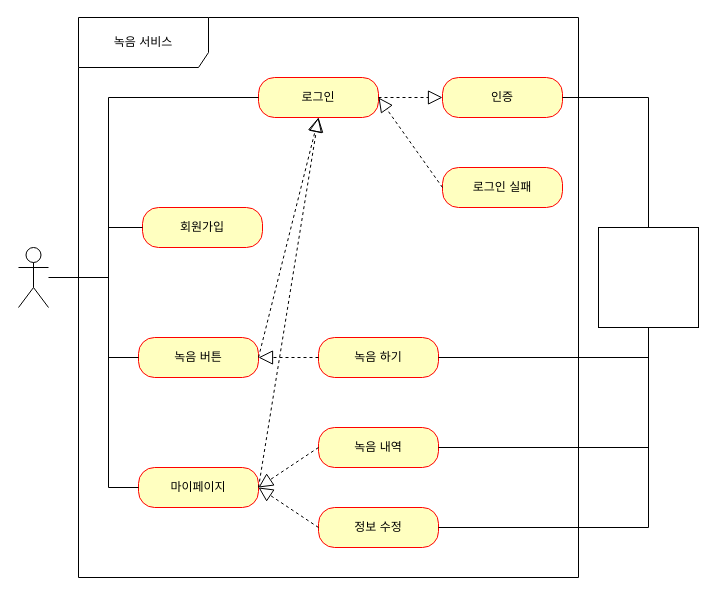
The diagram is 716 pixels wide and 595 high, and some of its shapes have lost their labels. The centre of each missing label's shape, as x and y in pixels:
"DB" goes at (648,277).
"사용자" goes at (33,277).
